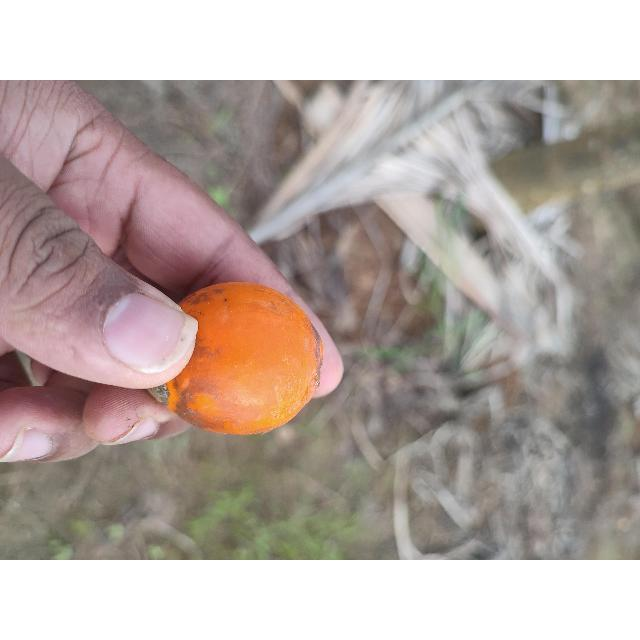good: (148, 283, 321, 436)
